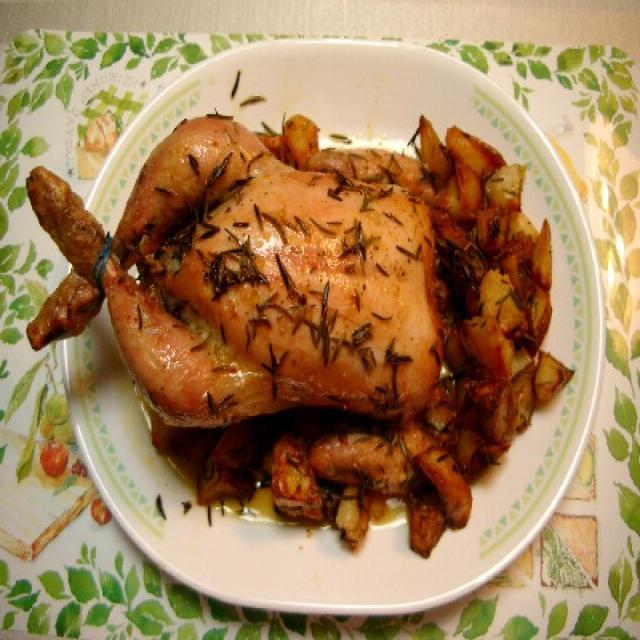Chicken: (21, 94, 452, 432)
